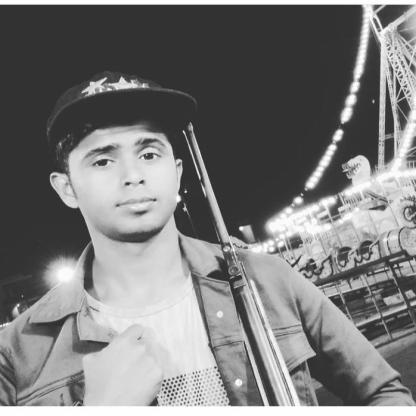rifle: (181, 121, 302, 406)
